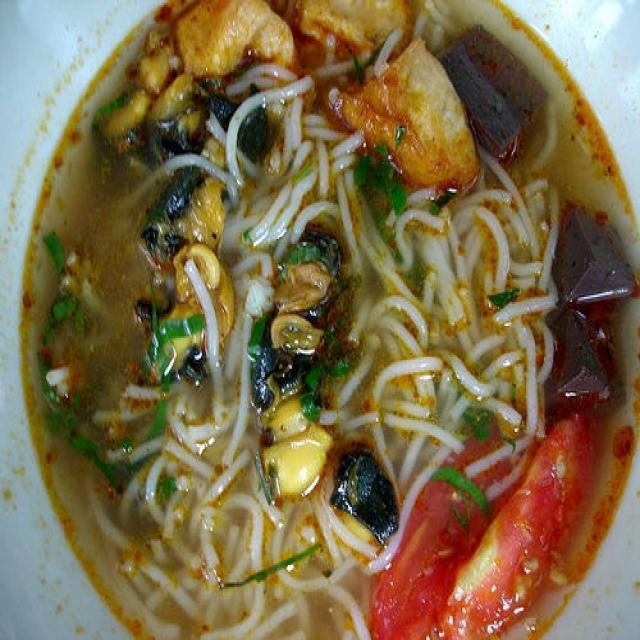面条主食: (12, 12, 627, 628)
